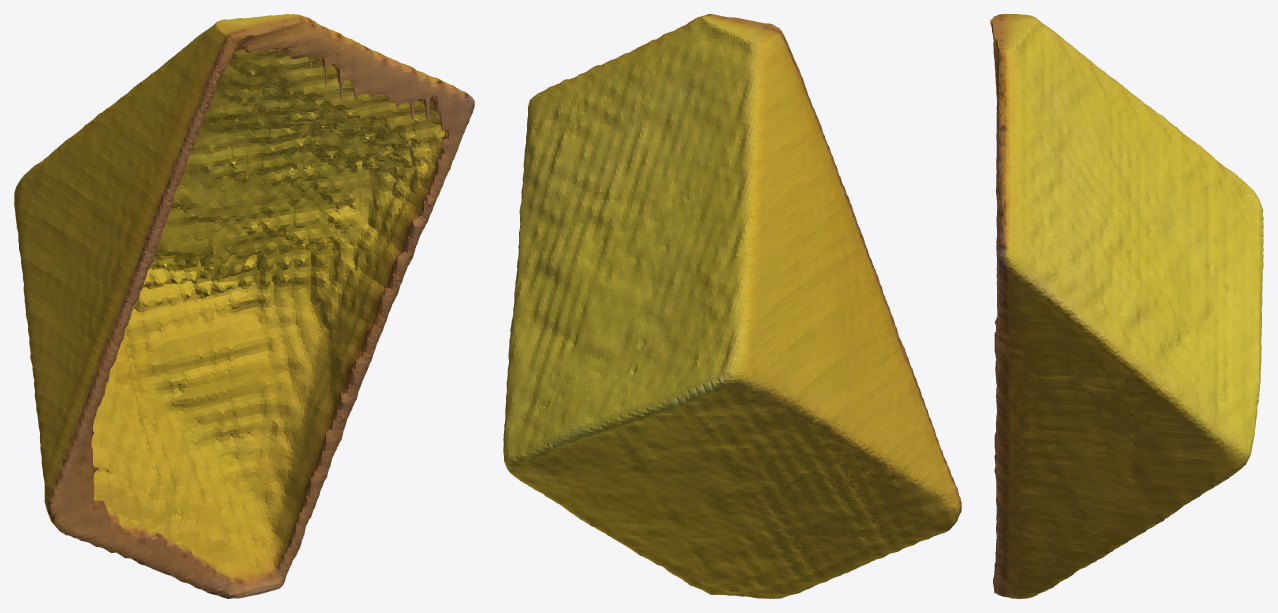
Rendered from obj2_scaled_obb.glb.
3 renders of one model, left to right at view 1: azimuth 30°, elevation 25°; view 2: azimuth 150°, elevation 25°; view 3: azimuth 270°, elevation 25°, orthographic.
Visible parts, largest first — view 1: world; view 2: world; view 3: world.
Part boxes in pixels (bbox=[...]): world: bbox=[14, 14, 474, 598]; world: bbox=[503, 14, 961, 598]; world: bbox=[990, 14, 1263, 598].
Bounding box in the file's own units: 0.0397 × 0.0501 × 0.0222.
